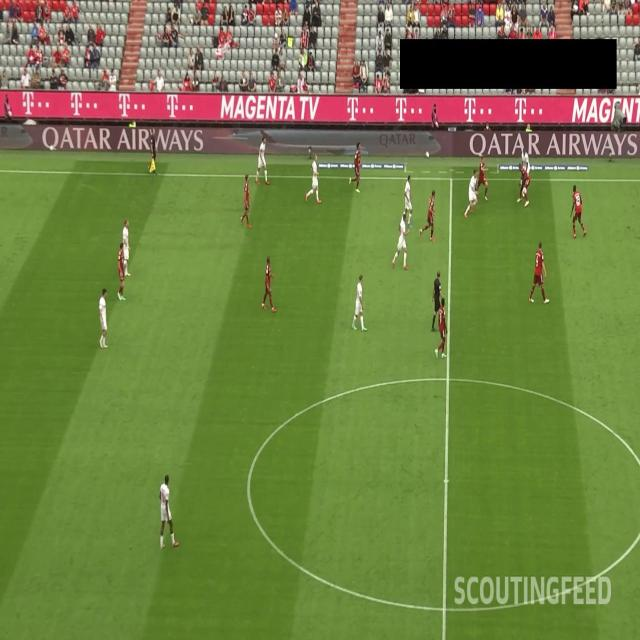ball: (522, 182, 528, 198)
player: (158, 472, 180, 550), (528, 240, 552, 309), (390, 212, 410, 270), (568, 184, 588, 240), (351, 271, 368, 334), (419, 188, 437, 245), (434, 294, 449, 361), (471, 149, 489, 203), (261, 254, 277, 312), (305, 152, 322, 204), (255, 136, 271, 187), (346, 142, 362, 192), (116, 240, 128, 302), (463, 166, 477, 218), (515, 162, 530, 209), (98, 288, 109, 352), (240, 171, 252, 229), (122, 218, 132, 278), (404, 175, 414, 229), (520, 147, 530, 198)
referee: (430, 268, 444, 334), (150, 126, 158, 178)
